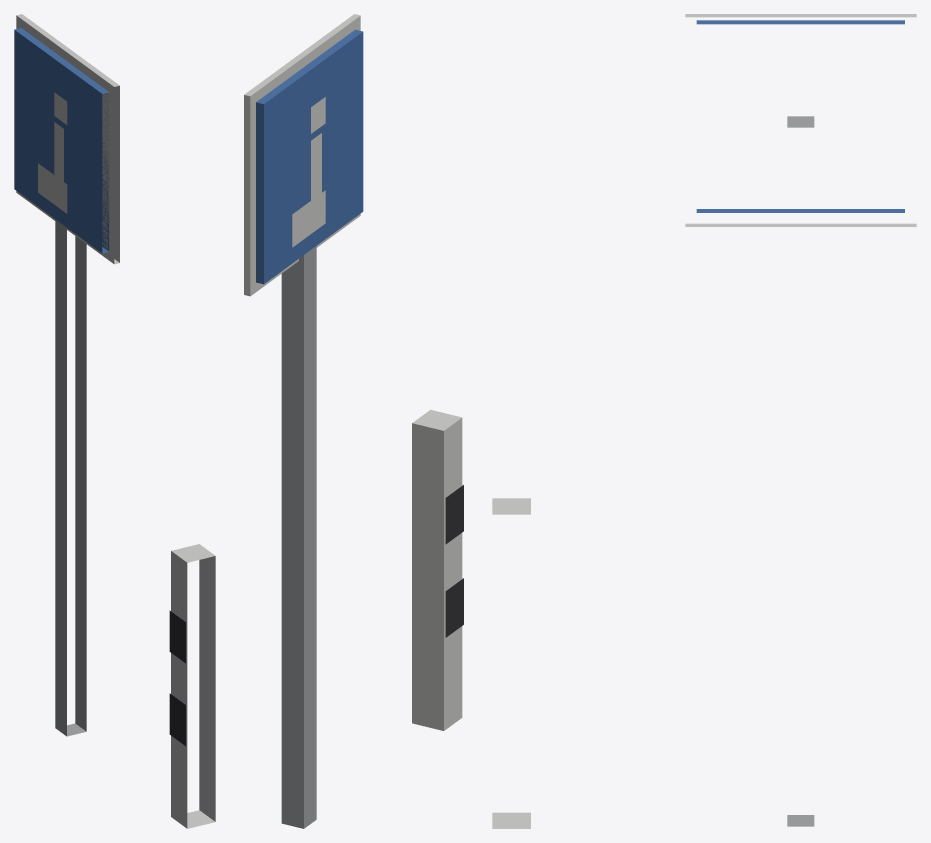
Rendered from sign_pedestrian.glb.
The picture shows the model from 3 angles, left to right: view 1: azimuth 30°, elevation 25°; view 2: azimuth 150°, elevation 25°; view 3: azimuth 270°, elevation 25°; orthographic projection. The views are drawn at different scales.
Visible parts, largest first — view 1: asset; view 2: asset; view 3: asset.
Part boxes in pixels (box(x1,y1,x2,y2)): asset: box(14, 14, 215, 828); asset: box(244, 14, 463, 828); asset: box(492, 14, 916, 828).
Size of the model in its own units: 0.105 by 2.3 by 1.1.
